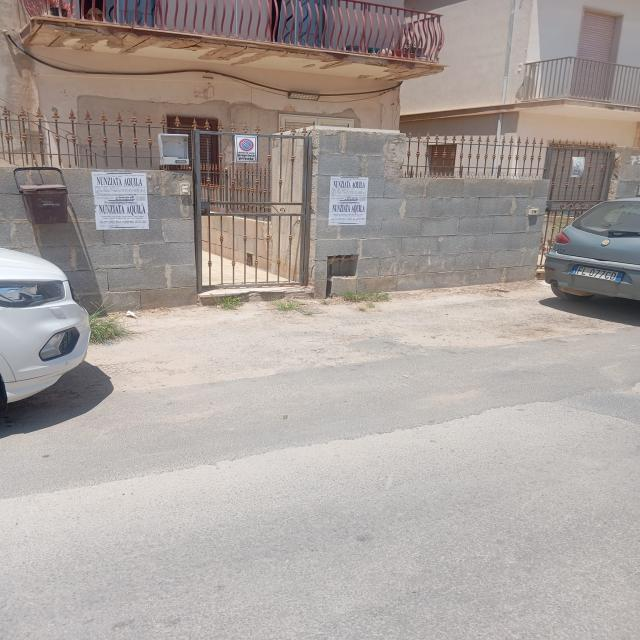forb_stopping: (239, 138, 254, 151)
